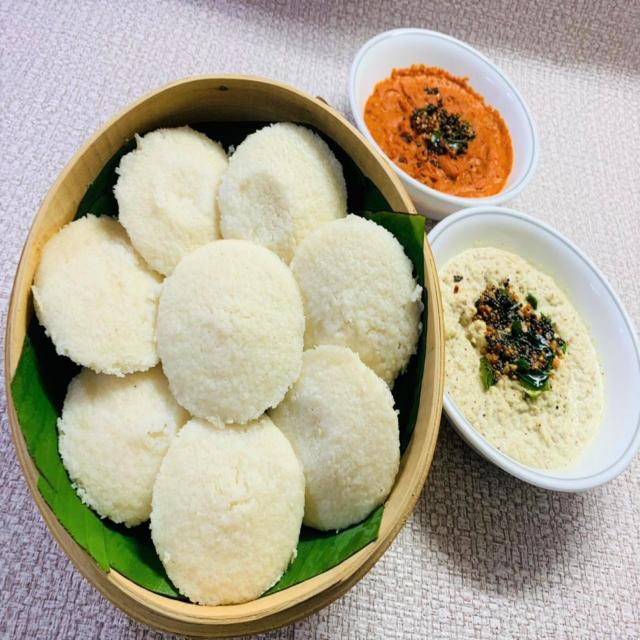idli: (142, 409, 308, 604), (149, 242, 298, 430), (269, 344, 403, 536), (59, 356, 194, 540), (290, 213, 424, 388), (37, 220, 159, 378), (216, 127, 350, 261), (119, 124, 223, 274)
